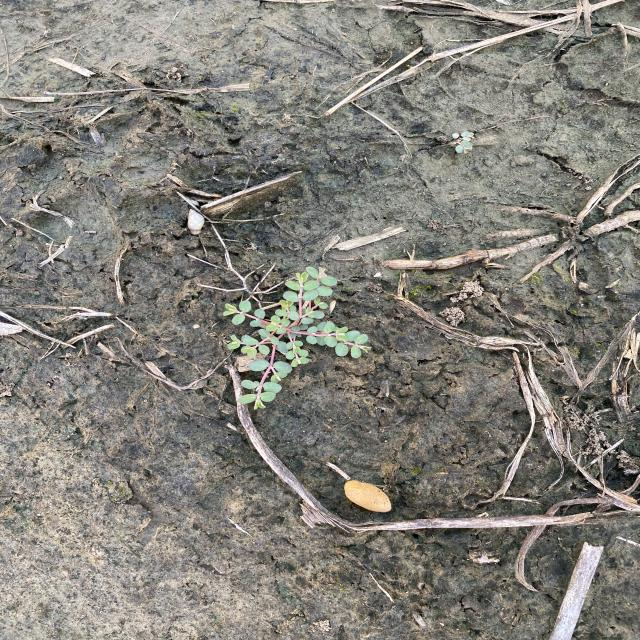SpottedSpurge: (220, 265, 374, 413)
